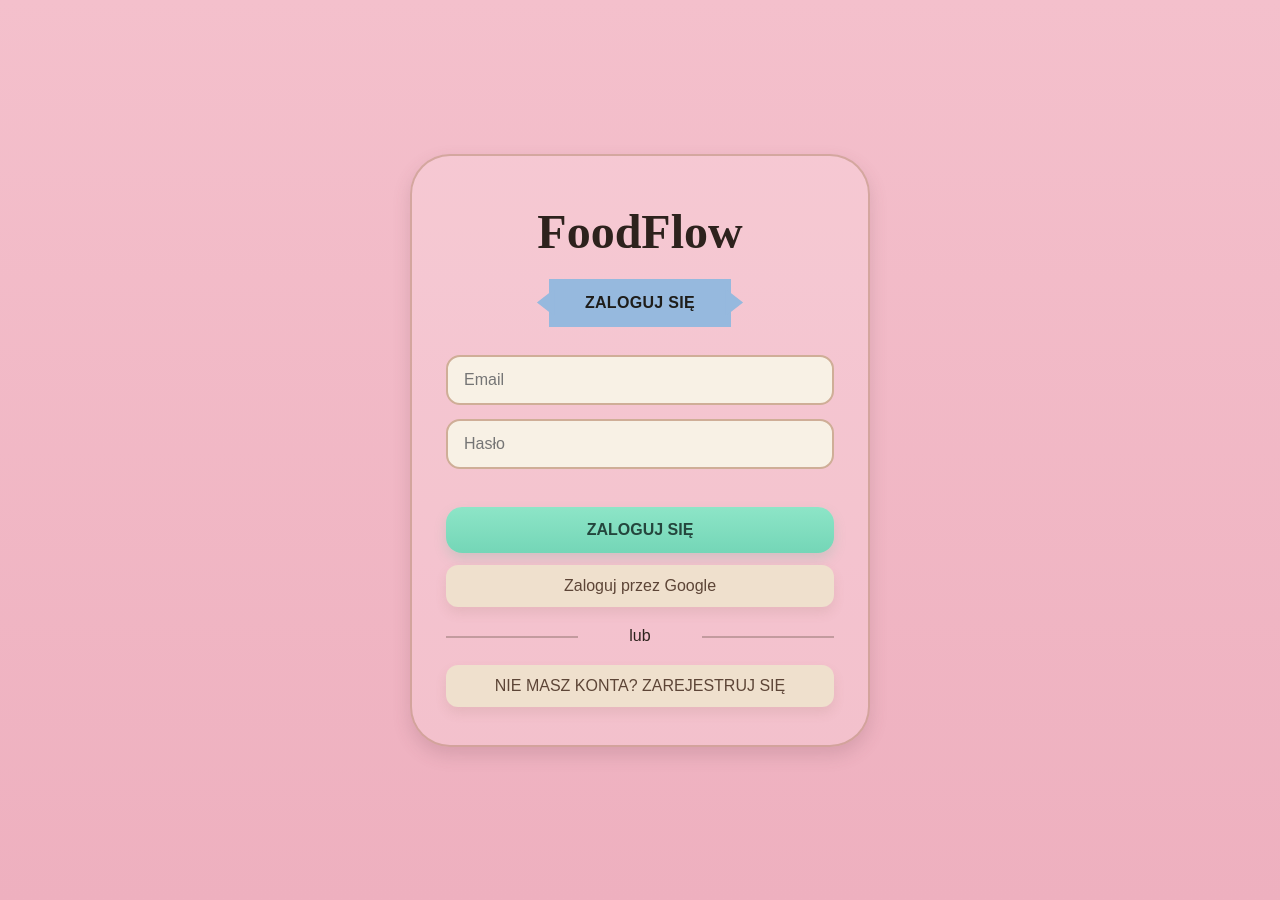
Test: AuthScreen Component › validates empty inputs on login submit
The width and height of the screenshot is (1280, 900).
Click the button "ZALOGUJ SIĘ" at (640,530), box [446,506,834,552]
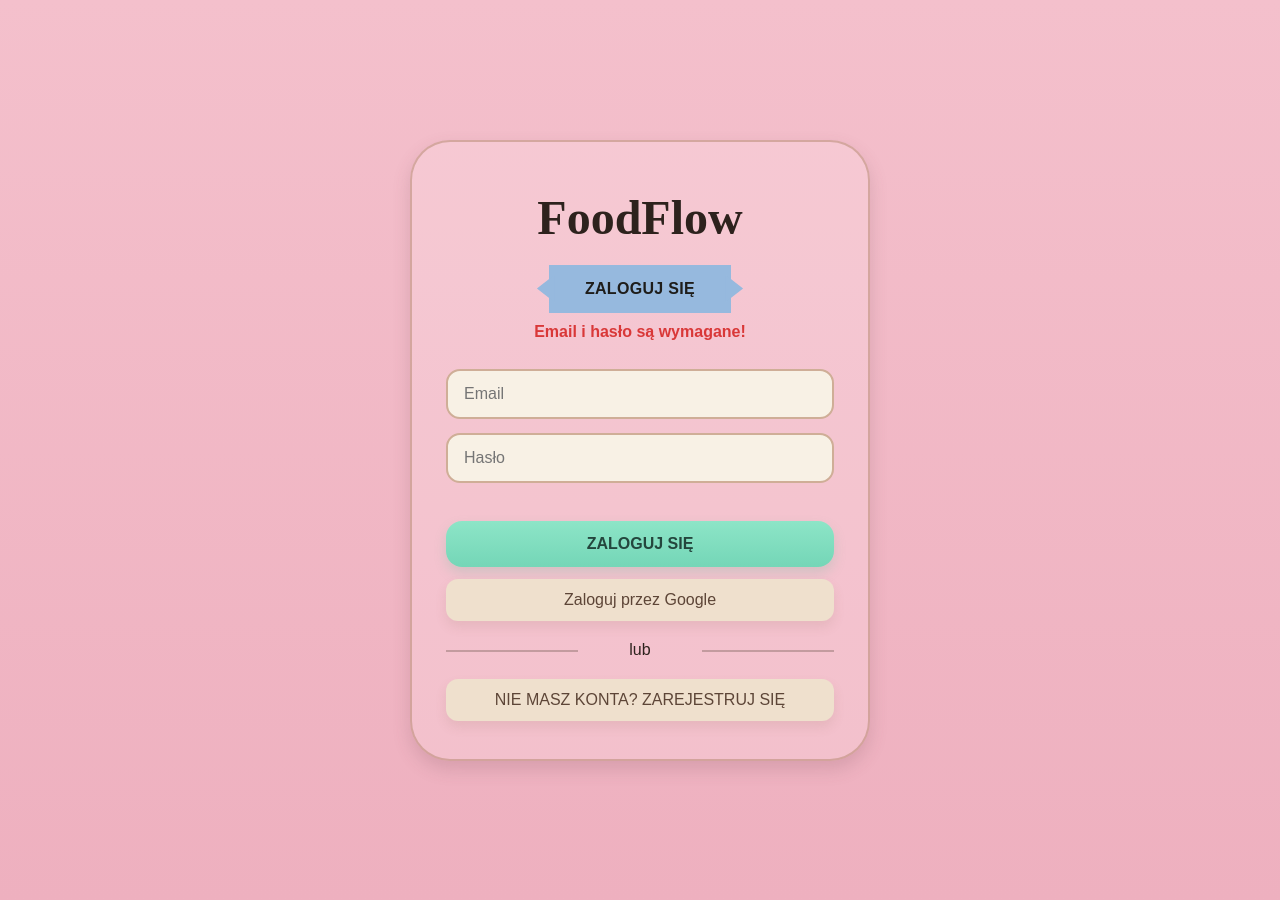
Result: the text "Email i hasło są wymagane!" is shown at [534,322,746,340]
